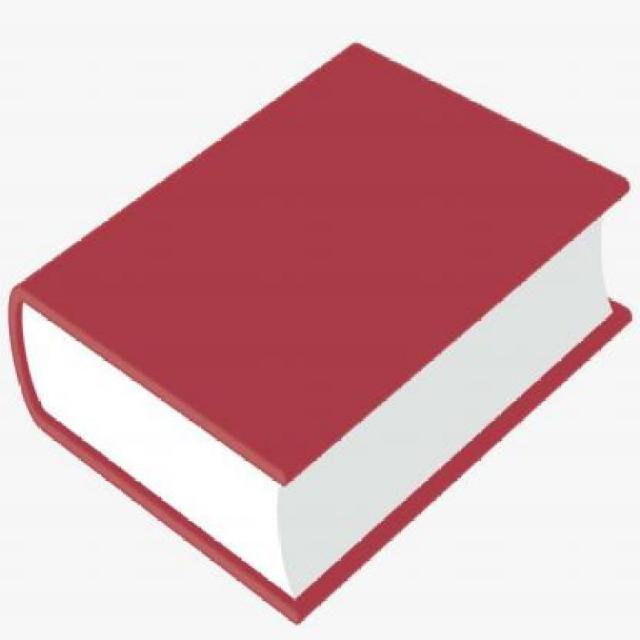pen: (4, 35, 631, 626)
